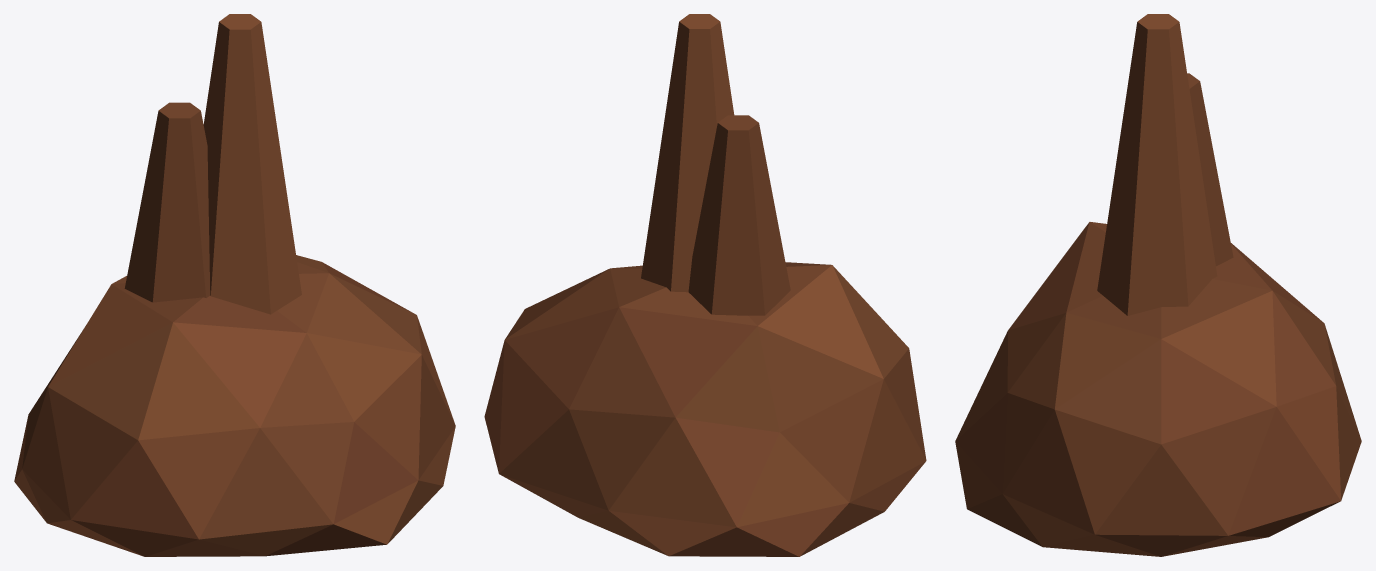
Rendered from env_termite_a.glb.
3 views of the same model, side by side, from view 1: azimuth 30°, elevation 25°; view 2: azimuth 150°, elevation 25°; view 3: azimuth 270°, elevation 25° (orthographic). The views are drawn at different scales.
Visible parts, largest first — view 1: env_termite_a; view 2: env_termite_a; view 3: env_termite_a.
Boxes of the visible parts, x1=… form: env_termite_a: x1=14, y1=14, x2=455, y2=556; env_termite_a: x1=484, y1=14, x2=926, y2=556; env_termite_a: x1=955, y1=14, x2=1361, y2=556.
Size of the model in its own units: 2.53 by 3.08 by 2.31.
